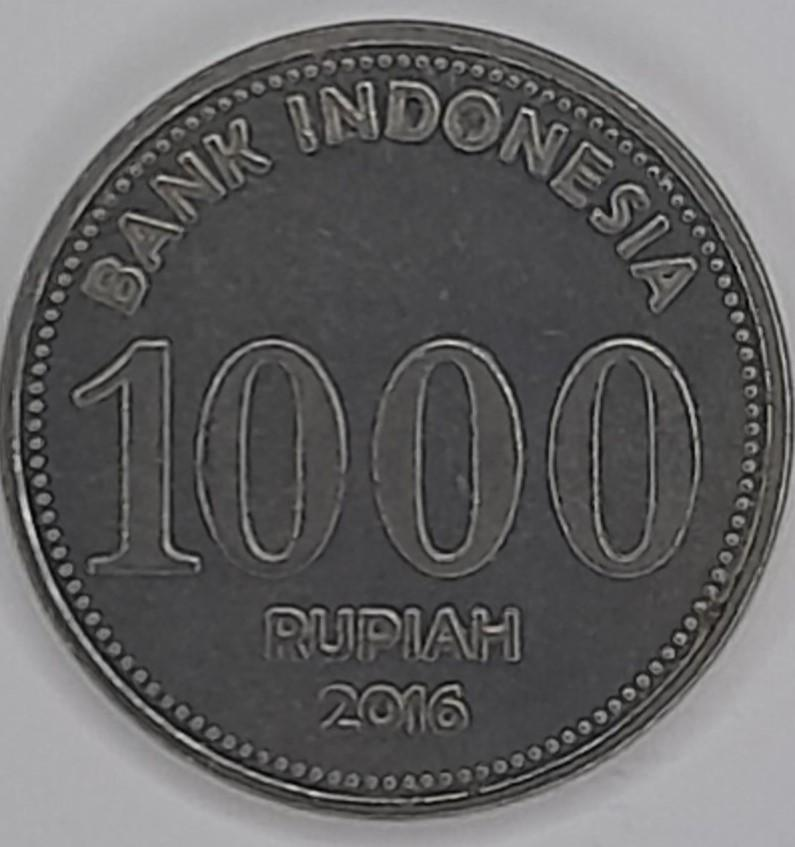coin_1000_e2016: (14, 17, 784, 847)
